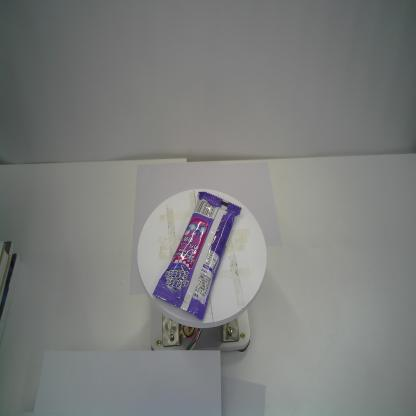Candy: (152, 190, 242, 322)
